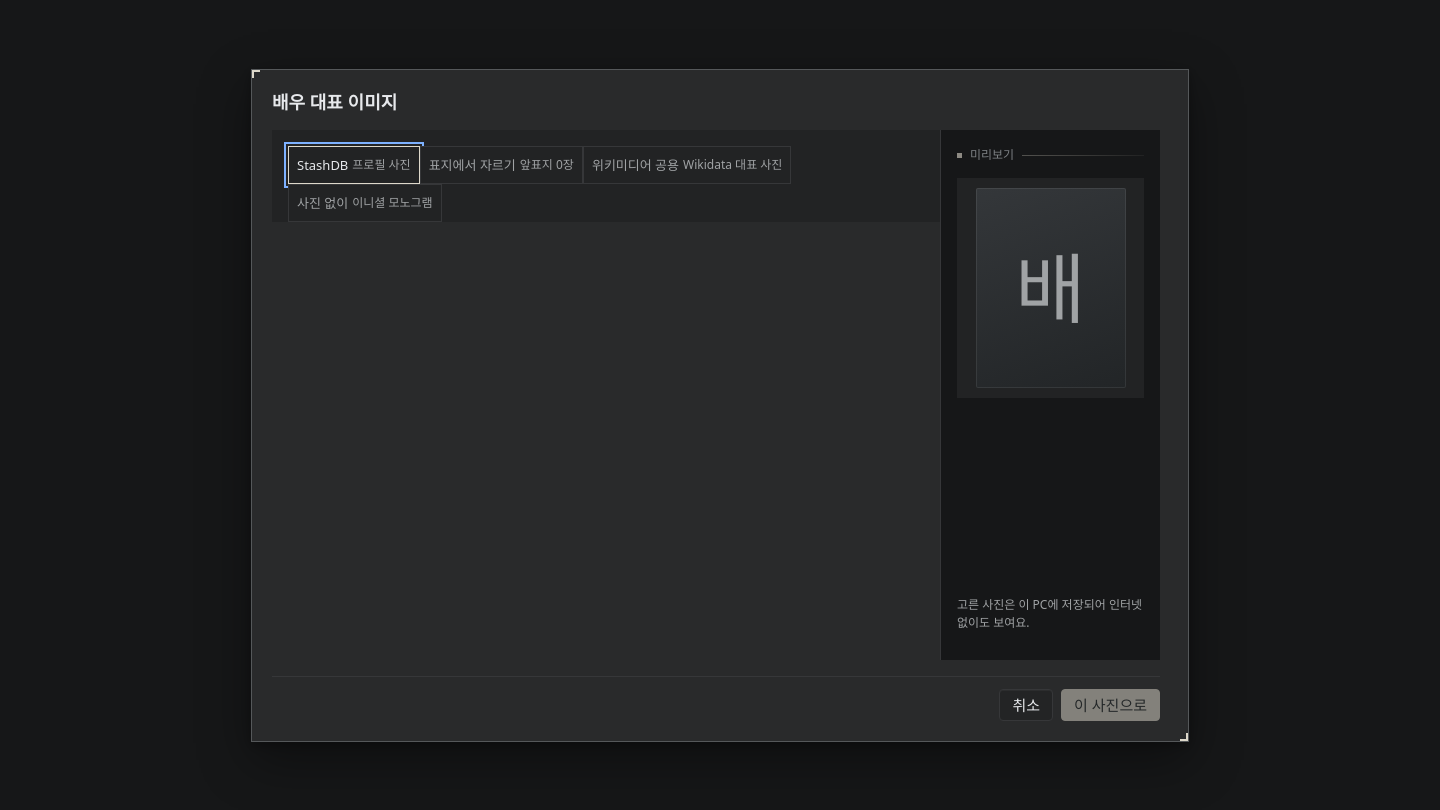
Test: shows the unlinked StashDB state
Click the button "StashDB 프로필 사진": [354, 164] box [288,146,420,184]
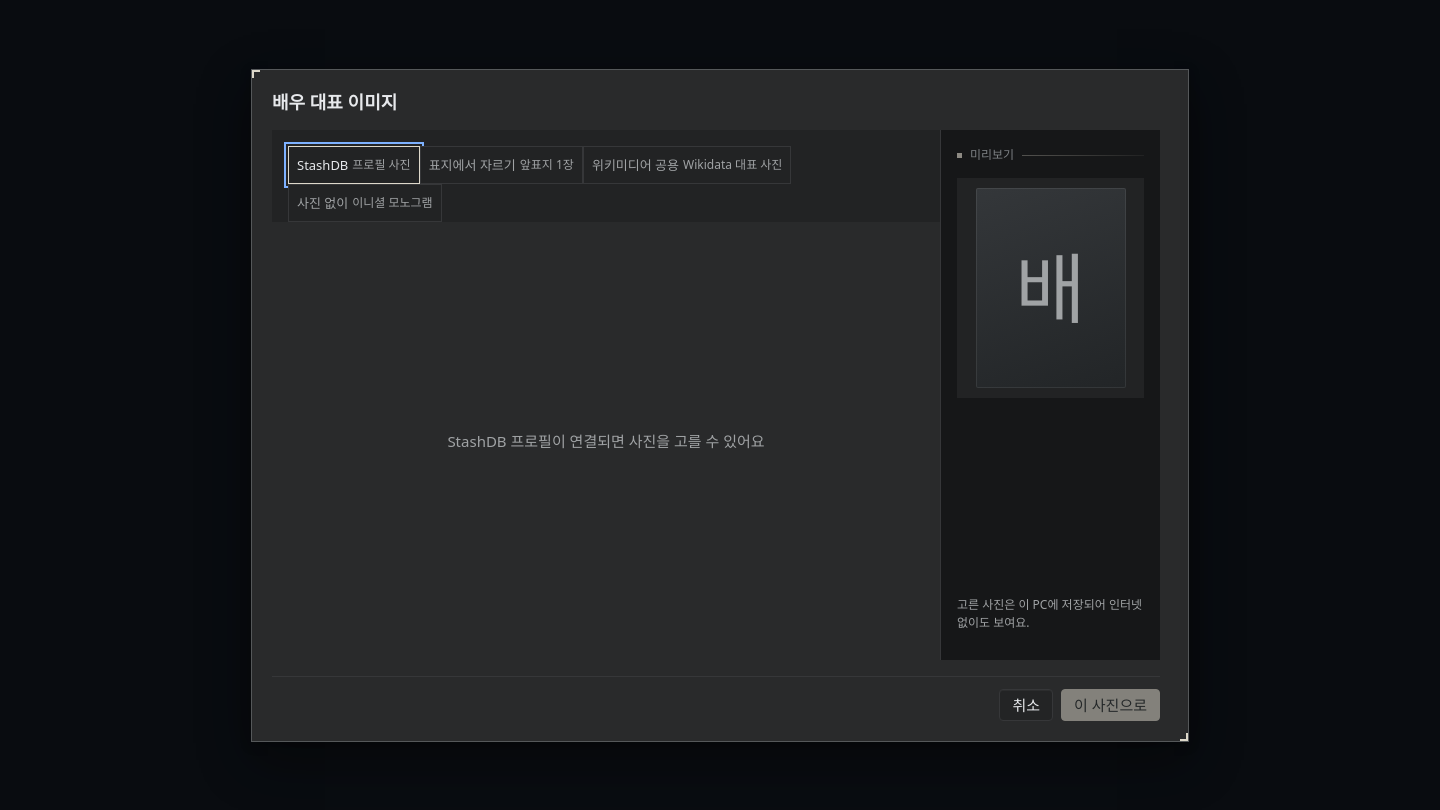
Expected: the text "StashDB 프로필이 연결되면 사진을 고를 수 있어요" is shown, [447,430,765,450]
